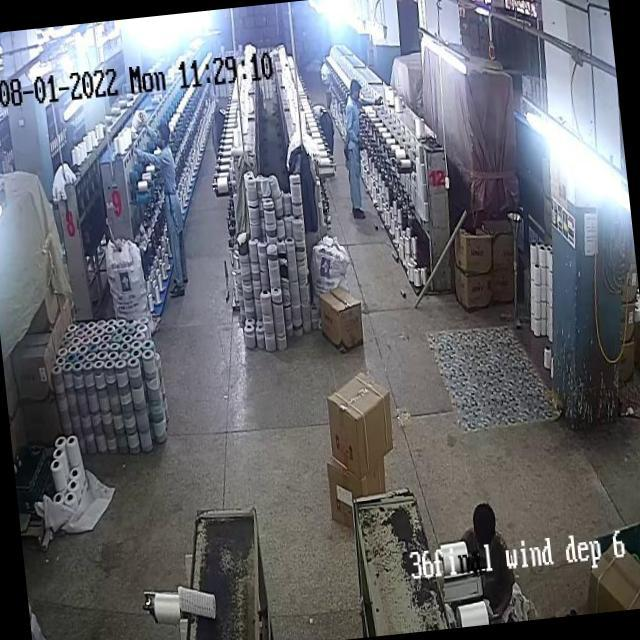person: (152, 121, 194, 292), (335, 76, 375, 222), (461, 498, 513, 587)
